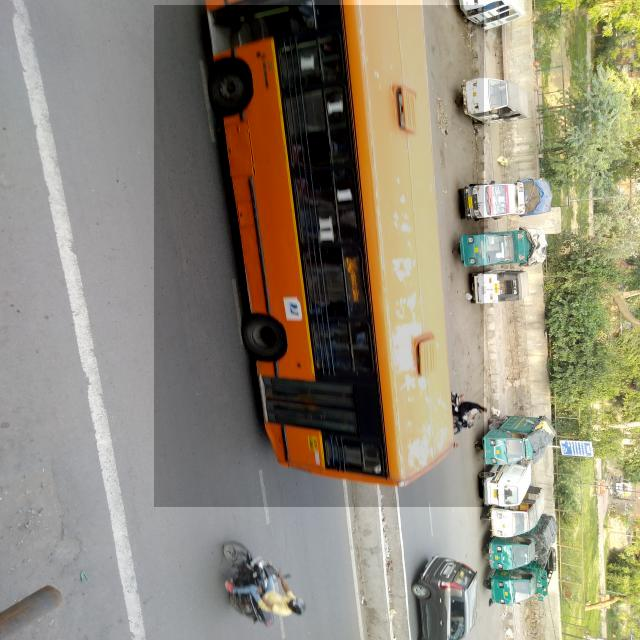Bus: (154, 5, 484, 507)
